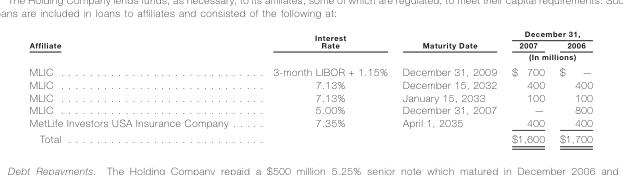table: (28, 28, 592, 144)
table column: (28, 28, 249, 144), (249, 28, 394, 144), (394, 28, 503, 144), (503, 28, 551, 144), (551, 28, 592, 144)
table column header: (28, 28, 592, 63)
table row: (28, 63, 592, 78), (28, 116, 592, 130), (28, 130, 592, 144), (28, 50, 592, 63), (28, 90, 592, 103), (28, 103, 592, 116), (28, 78, 592, 90), (28, 28, 592, 39), (28, 39, 592, 50)
table spanning cell: (28, 28, 249, 63), (249, 28, 394, 63), (394, 28, 503, 63), (503, 50, 592, 63), (503, 28, 592, 39)
